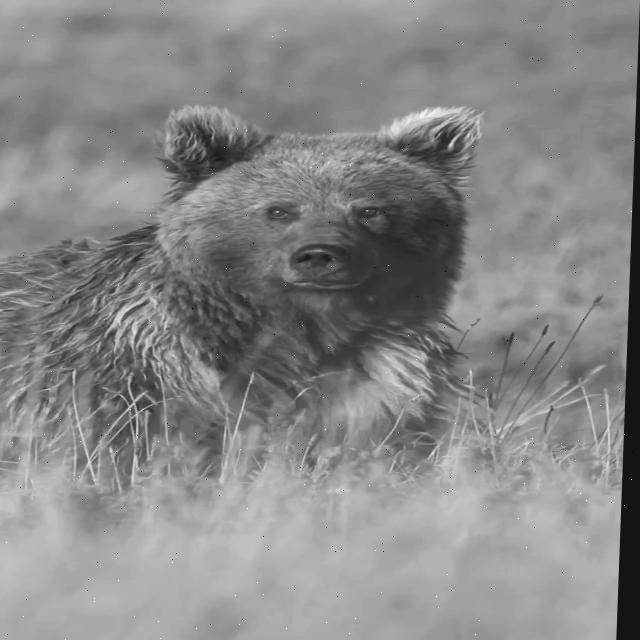Bear: (0, 103, 492, 497)
